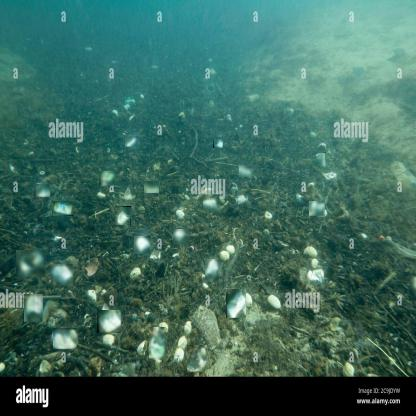can: (16, 250, 46, 278), (226, 289, 247, 319), (97, 310, 122, 334), (187, 345, 208, 373), (24, 294, 44, 323), (150, 328, 167, 362), (53, 328, 78, 350), (51, 264, 74, 287), (206, 259, 222, 283), (52, 201, 74, 217), (134, 236, 152, 255), (115, 206, 132, 226), (99, 171, 116, 187), (309, 201, 326, 217), (173, 229, 188, 246), (34, 184, 51, 198), (203, 198, 219, 212), (144, 181, 160, 194), (125, 136, 139, 148), (239, 166, 253, 178), (213, 137, 224, 149)
waste: (318, 152, 327, 170)
